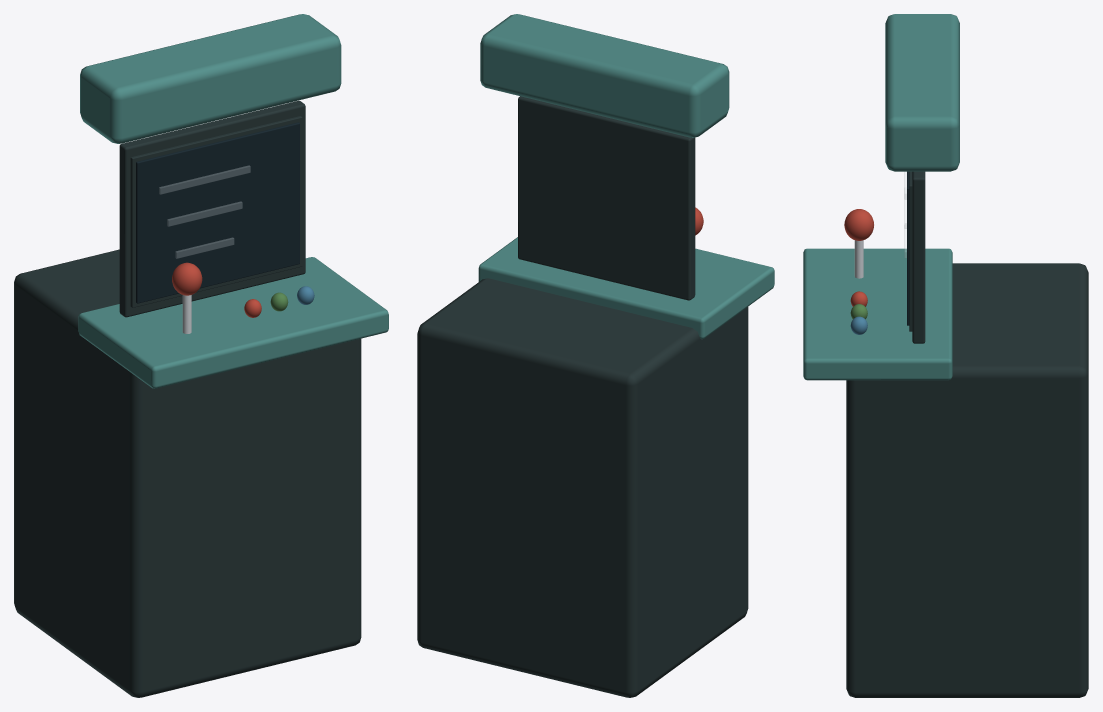
The model's file is wp-borne-d-arcade.glb.
The picture shows the model from 3 angles, left to right: view 1: azimuth 30°, elevation 25°; view 2: azimuth 150°, elevation 25°; view 3: azimuth 270°, elevation 25°; orthographic projection. The views are drawn at different scales.
Visible parts, largest first — view 1: wp-borne-d-arcade; view 2: wp-borne-d-arcade; view 3: wp-borne-d-arcade.
Boxes of the visible parts, x1,y1,x2,y2 form: wp-borne-d-arcade: (14, 14, 388, 697); wp-borne-d-arcade: (417, 14, 774, 697); wp-borne-d-arcade: (803, 14, 1088, 697).
Size of the model in its own units: 0.75 by 1.8 by 0.8.
